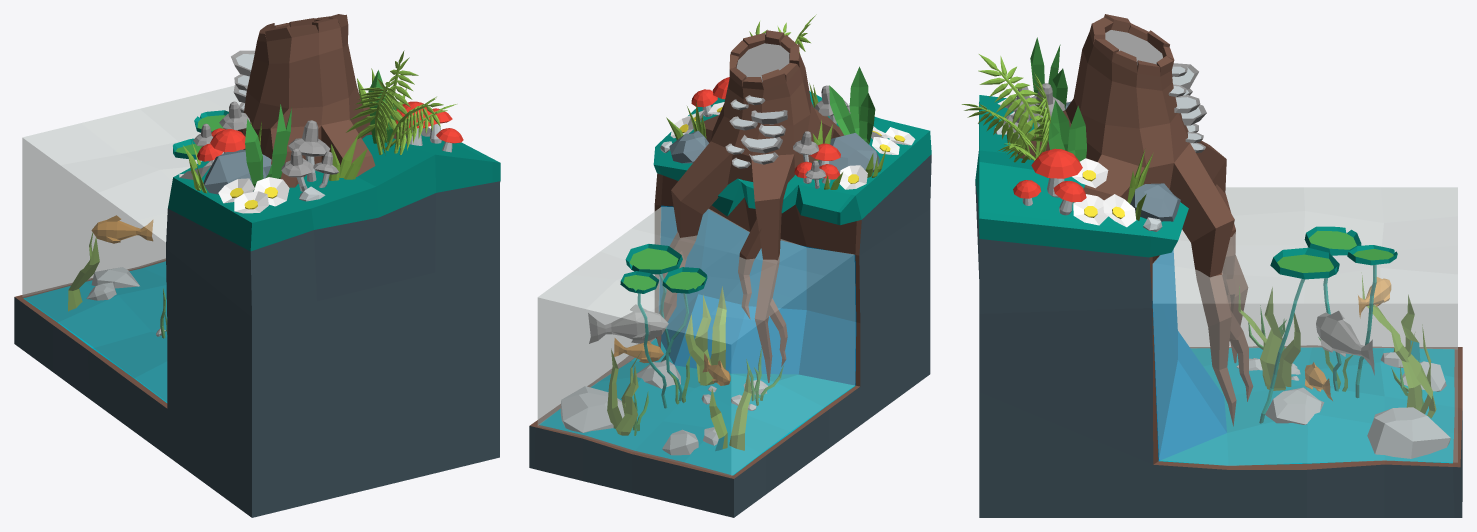
3 views of the same model, side by side, from view 1: azimuth 30°, elevation 25°; view 2: azimuth 150°, elevation 25°; view 3: azimuth 270°, elevation 25° (orthographic). The views are drawn at different scales.
Parts seen in each view (by area): view 1: group915566844, group1578036805; view 2: group915566844, group1578036805; view 3: group915566844, group1578036805.
Boxes of the visible parts, <box> form: group915566844: <box>14,14,500,517</box>; group1578036805: <box>22,86,241,401</box>; group915566844: <box>529,14,931,517</box>; group1578036805: <box>537,207,855,475</box>; group915566844: <box>961,14,1462,517</box>; group1578036805: <box>1153,187,1457,465</box>.
Size of the model in its own units: 0.4646 by 0.7609 by 0.7935.
2 materials, 2 textured.
